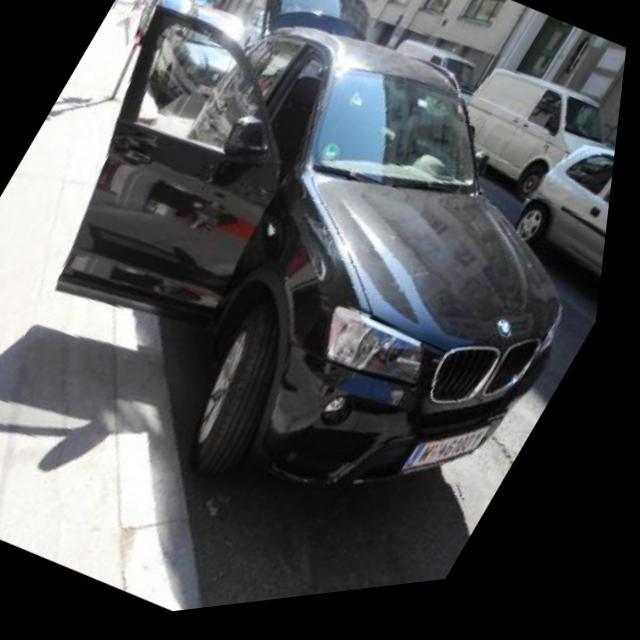license_plate: (408, 410, 506, 513)
